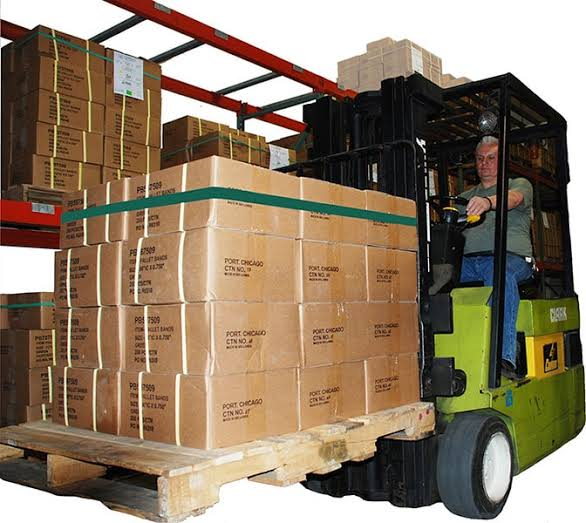box: (127, 153, 213, 239), (207, 372, 301, 450), (211, 159, 302, 237), (120, 227, 210, 304), (209, 299, 303, 372), (209, 230, 302, 302), (119, 372, 208, 447), (120, 304, 210, 375), (48, 367, 122, 435), (51, 304, 123, 372), (59, 178, 126, 247), (301, 175, 367, 243), (53, 242, 120, 307), (302, 240, 368, 305), (303, 304, 366, 367), (366, 189, 420, 251), (365, 306, 422, 359), (366, 247, 420, 302)
pallet: (1, 397, 437, 522)
